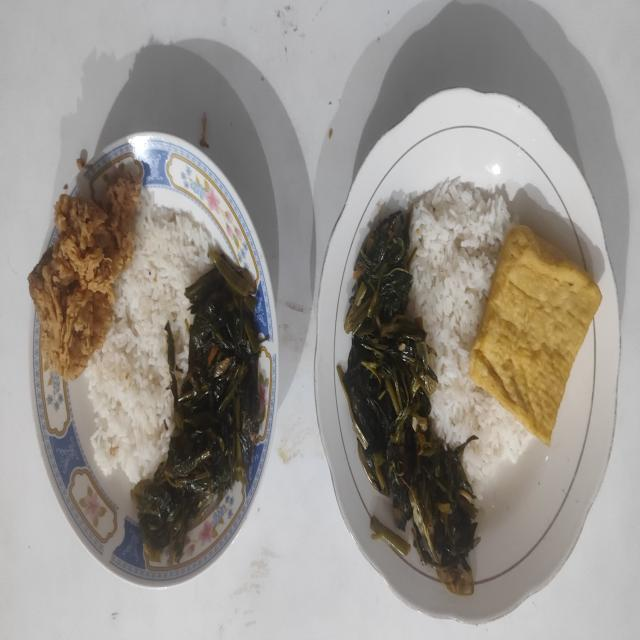nasi_putih: (406, 179, 532, 488), (84, 189, 210, 481)
tahu_goreng: (469, 225, 602, 444)
tumis_kangkung: (337, 210, 480, 596), (131, 248, 273, 564)
